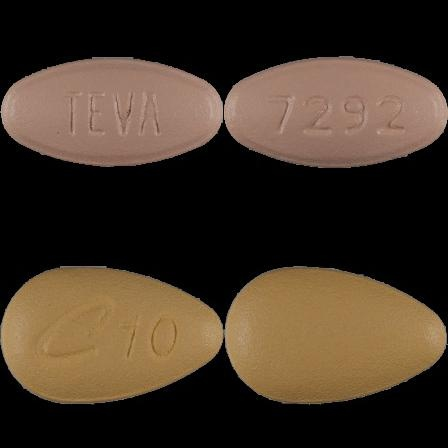21695-027: (0, 0, 224, 224)
